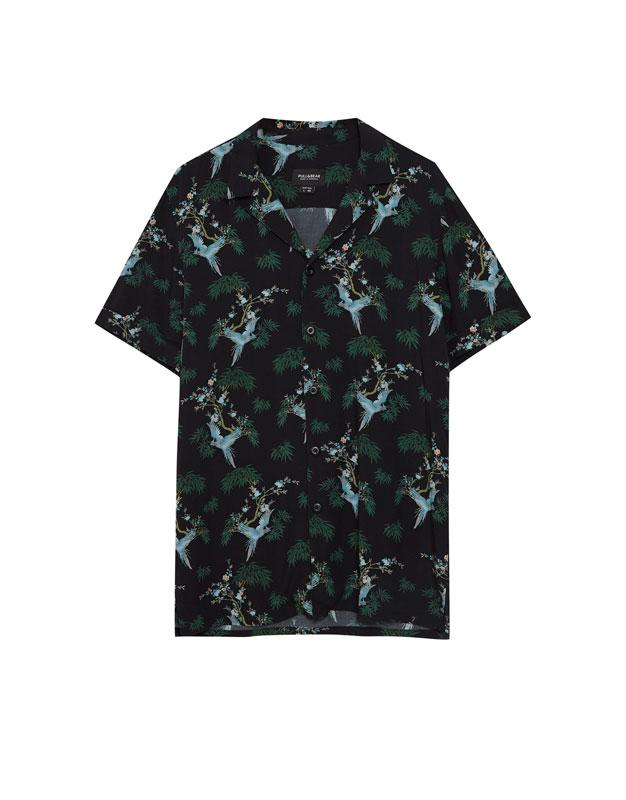teeshirt: (90, 108, 536, 667)
